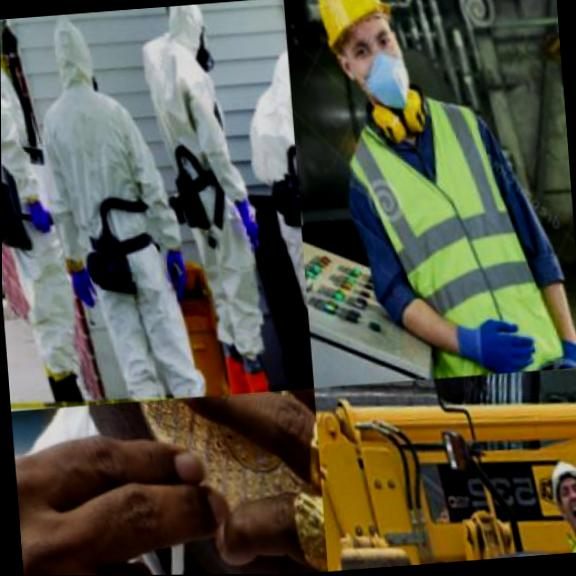safety_vest: (323, 75, 564, 384), (21, 81, 214, 408), (139, 40, 278, 362), (0, 51, 78, 390), (232, 88, 313, 379)
